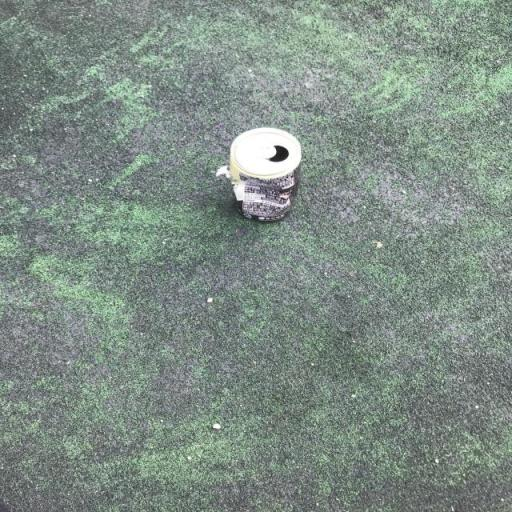metal: (203, 111, 321, 255)
